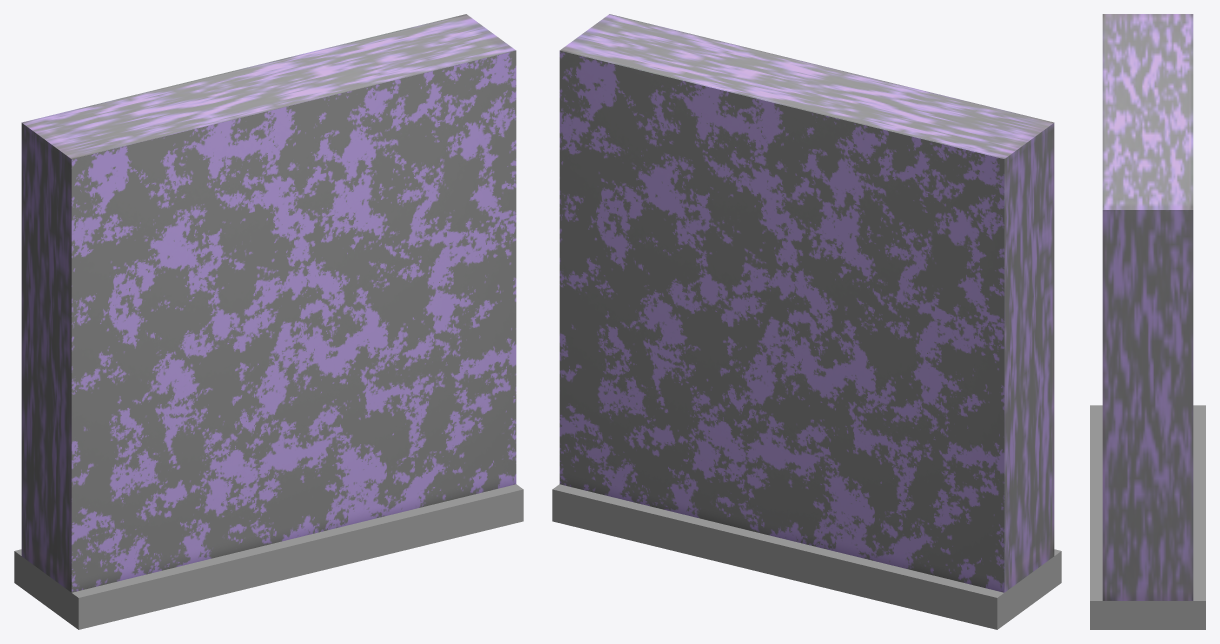
Rendered from Pared2.fbx.
3 renders of one model, left to right at view 1: azimuth 30°, elevation 25°; view 2: azimuth 150°, elevation 25°; view 3: azimuth 270°, elevation 25°, orthographic. The views are drawn at different scales.
Parts seen in each view (by area): view 1: Pared.001; view 2: Pared.001; view 3: Pared.001.
Part boxes in pixels (x1=…): Pared.001: x1=14, y1=14, x2=523, y2=629; Pared.001: x1=552, y1=14, x2=1061, y2=629; Pared.001: x1=1090, y1=14, x2=1205, y2=629.
Bounding box in the file's own units: 200 × 200 × 50.
